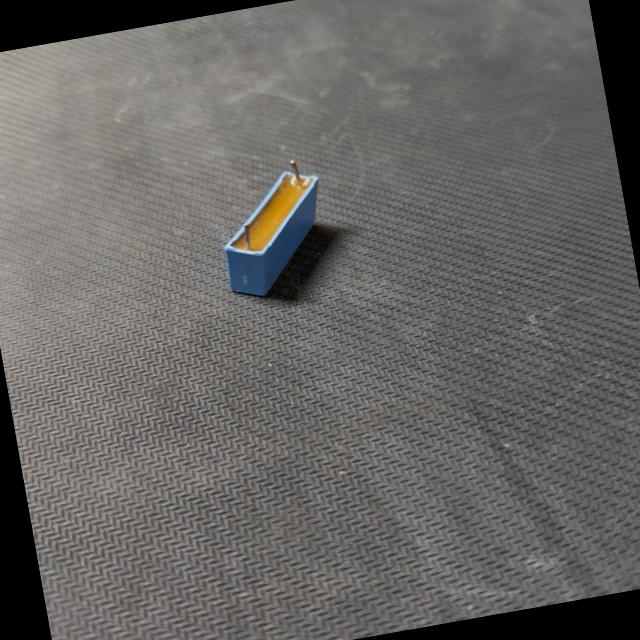capacitor: (193, 146, 364, 313)
